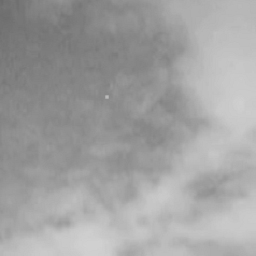Target: (102, 93, 110, 100)
